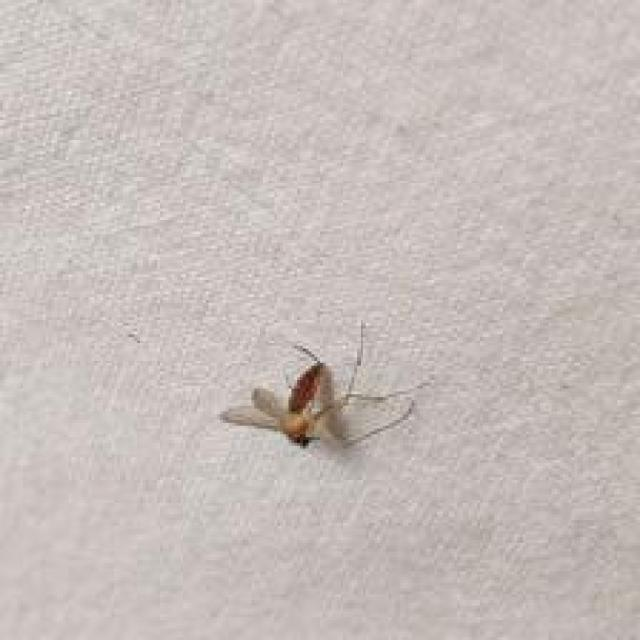Culex: (219, 318, 424, 453)
